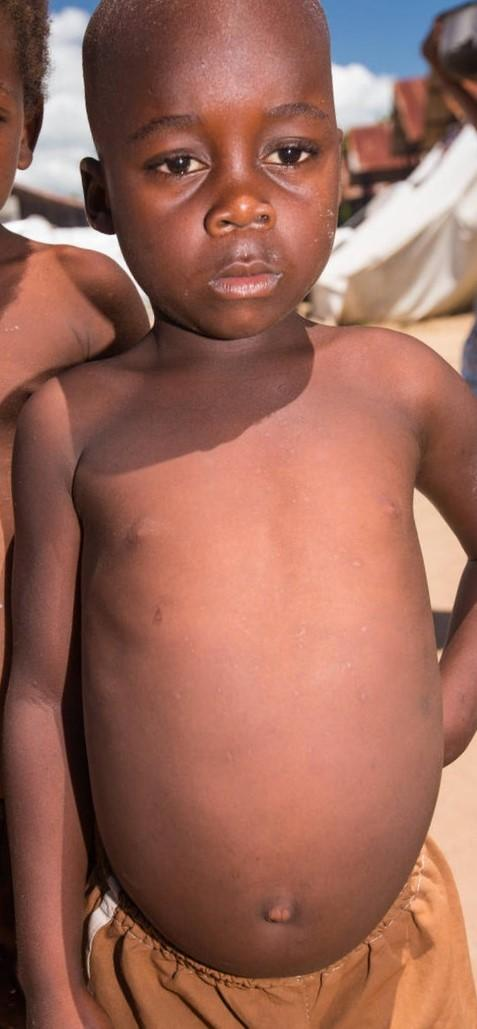Stunting: (105, 0, 382, 390)
